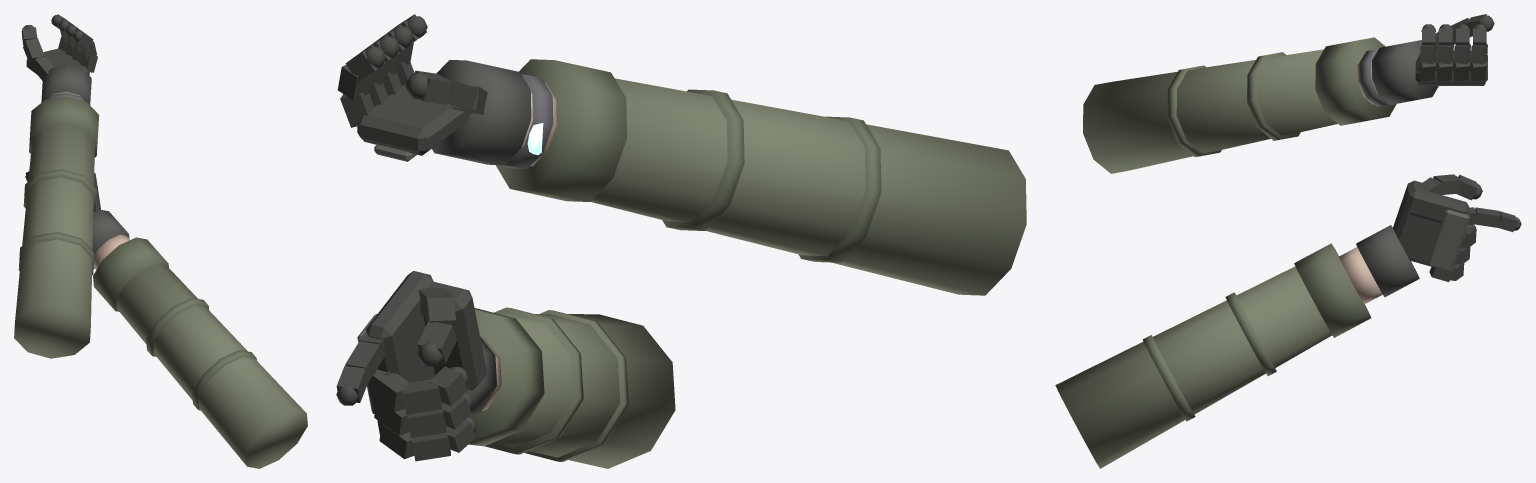
The model's file is hands_laser_minigun.glb.
3 renders of one model, left to right at view 1: azimuth 30°, elevation 25°; view 2: azimuth 150°, elevation 25°; view 3: azimuth 270°, elevation 25°, orthographic. The views are drawn at different scales.
Parts seen in each view (by area): view 1: HandL, Hands_laser_minigun; view 2: HandL, Hands_laser_minigun; view 3: Hands_laser_minigun, HandL.
Part boxes in pixels (<box>): HandL: <box>14,14,99,358</box>; Hands_laser_minigun: <box>25,171,307,468</box>; HandL: <box>337,14,1026,295</box>; Hands_laser_minigun: <box>336,271,675,468</box>; Hands_laser_minigun: <box>1055,174,1521,468</box>; HandL: <box>1083,14,1494,173</box>.
Bounding box in the file's own units: 0.4433 × 0.5342 × 0.5488.
